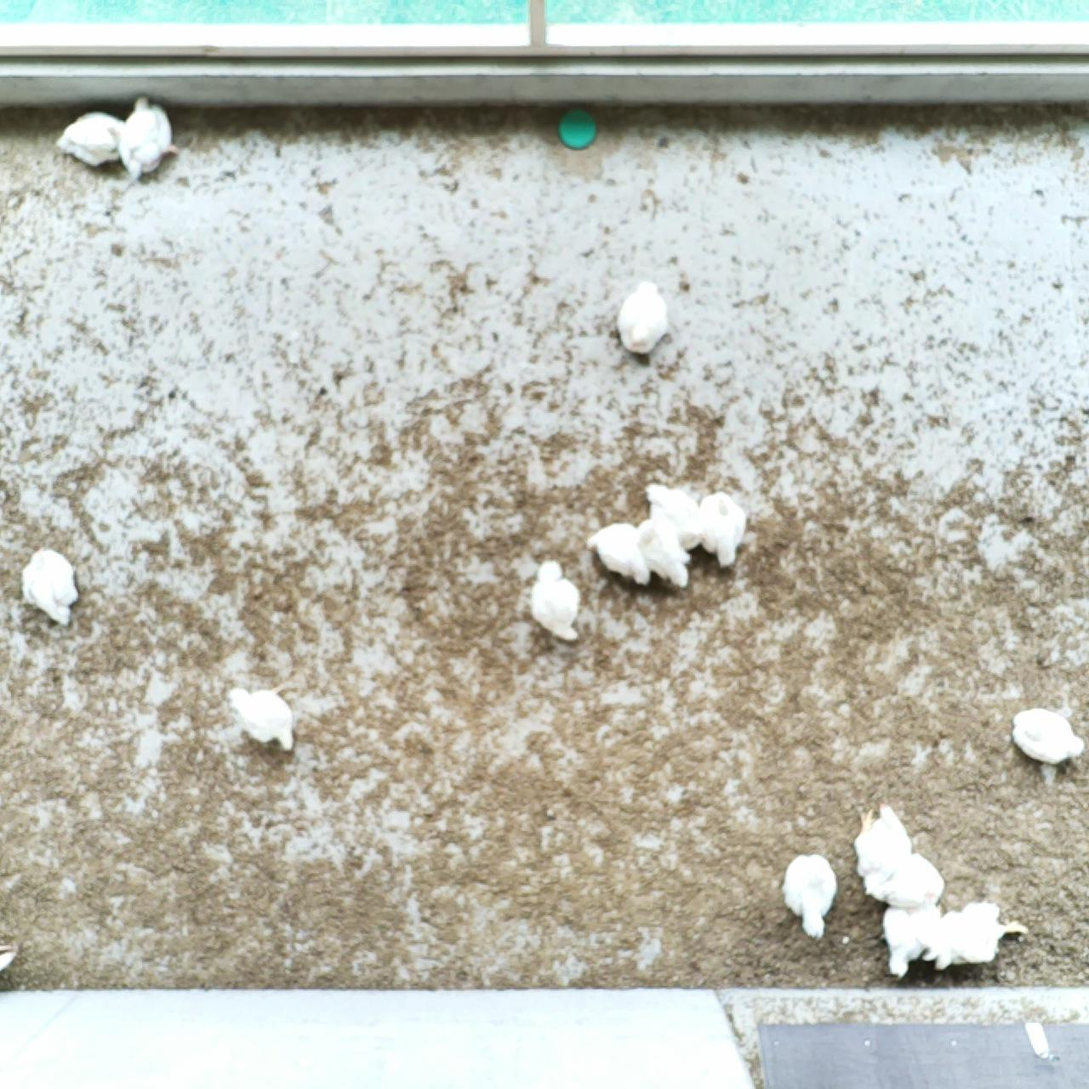chicken: (935, 898, 1032, 969), (118, 94, 181, 185), (17, 547, 80, 634), (525, 557, 586, 645), (861, 851, 947, 913), (784, 851, 841, 941), (848, 802, 913, 879), (224, 684, 296, 752), (613, 279, 676, 356), (636, 515, 697, 591), (641, 480, 704, 553), (1011, 704, 1086, 765), (691, 491, 748, 570), (586, 520, 653, 587), (53, 113, 131, 170), (906, 882, 954, 974), (875, 898, 928, 980)
